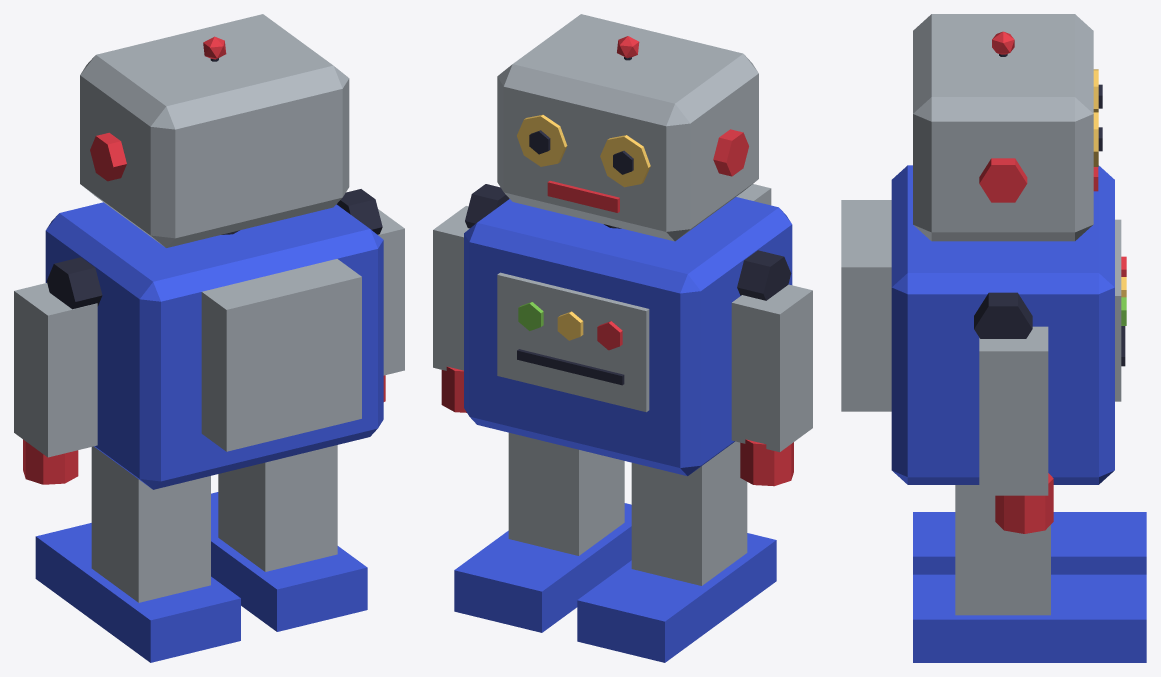
File: toy_robot.glb
The picture shows the model from 3 angles, left to right: view 1: azimuth 30°, elevation 25°; view 2: azimuth 150°, elevation 25°; view 3: azimuth 270°, elevation 25°; orthographic projection. The views are drawn at different scales.
Parts seen in each view (by area): view 1: Cube.010, Cube.006, Cube.009, Cube.001, Cube.002, Cube, Cube.004, Cube.003, Cube.005, Cylinder, Cylinder.001, Cylinder.002 (+1 smaller); view 2: Cube.006, Cube.010, Cube.007, Cube, Cube.001, Cube.002, Cube.003, Cube.004, Cube.005, Cylinder.001, Cylinder, Cylinder.003 (+9 smaller); view 3: Cube.006, Cube.010, Cube.003, Cube.005, Cube.009, Cube.004, Cube, Cylinder.005, Cylinder.006, Cylinder.007, Cube.007.
Boxes of the visible parts, x1,y1,x2,y2 form: Cube.010: [80, 14, 349, 247]; Cube.006: [45, 202, 383, 489]; Cube.009: [201, 259, 361, 451]; Cube.001: [91, 446, 210, 602]; Cube.002: [14, 283, 97, 457]; Cube: [35, 523, 240, 662]; Cube.004: [218, 445, 337, 571]; Cube.003: [211, 492, 367, 631]; Cube.005: [378, 209, 404, 375]; Cylinder: [46, 257, 102, 309]; Cylinder.001: [23, 439, 78, 484]; Cylinder.002: [90, 132, 126, 181]; Cube.006: [464, 197, 792, 476]; Cube.010: [497, 14, 758, 241]; Cube.007: [497, 272, 649, 412]; Cube: [577, 533, 776, 662]; Cube.001: [631, 441, 747, 585]; Cube.002: [731, 284, 812, 452]; Cube.003: [454, 503, 631, 632]; Cube.004: [508, 432, 624, 555]; Cube.005: [433, 206, 469, 370]; Cylinder.001: [740, 439, 793, 486]; Cylinder: [737, 250, 791, 300]; Cylinder.003: [600, 135, 650, 187]; Cube.006: [891, 165, 1114, 484]; Cube.010: [913, 14, 1093, 241]; Cube.003: [913, 574, 1146, 662]; Cube.005: [979, 326, 1048, 495]; Cube.009: [841, 200, 891, 411]; Cube.004: [955, 485, 1050, 615]; Cube: [913, 512, 1146, 574]; Cylinder.005: [974, 292, 1032, 338]; Cylinder.006: [995, 473, 1053, 533]; Cylinder.007: [979, 158, 1027, 202]; Cube.007: [1115, 219, 1121, 401].
Size of the model in its own units: 7.9 by 12 by 5.75.
